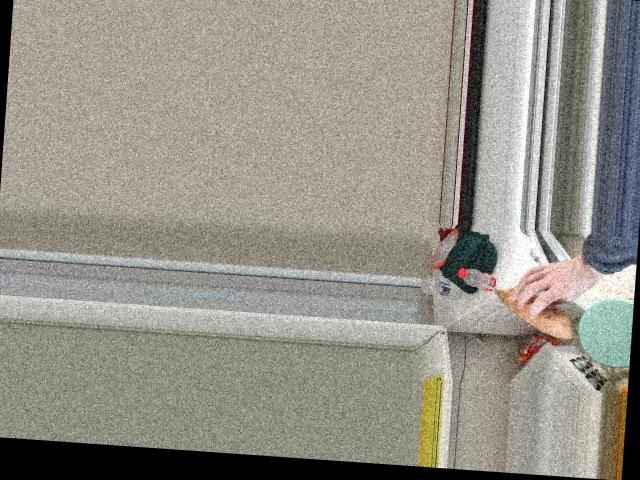sweet_potato: (497, 274, 563, 336)
